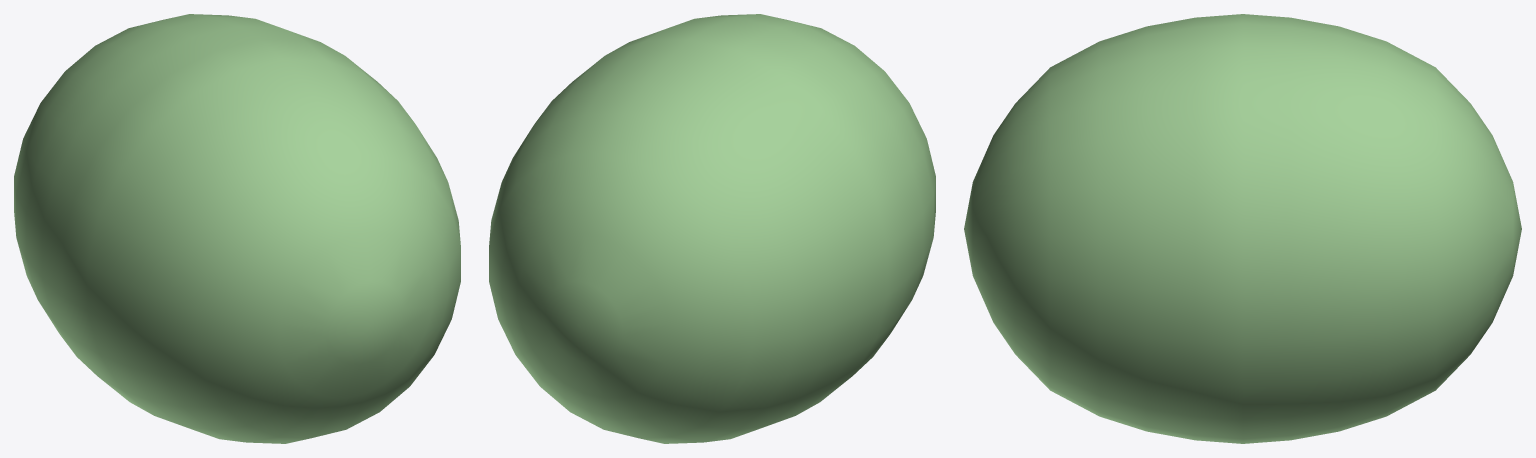
File: melon-frags.glb
3 renders of one model, left to right at view 1: azimuth 30°, elevation 25°; view 2: azimuth 150°, elevation 25°; view 3: azimuth 270°, elevation 25°, orthographic. The views are drawn at different scales.
Parts seen in each view (by area): view 1: frag_2, frag_4, frag_0, frag_3, frag_1, frag_5, frag_7; view 2: frag_4, frag_0, frag_7, frag_6, frag_9, frag_3, frag_2, frag_10, frag_11, frag_5, frag_1; view 3: frag_1, frag_0, frag_11, frag_2, frag_10, frag_9, frag_3.
Part boxes in pixels (<box>): frag_2: <box>103,81,449,438</box>; frag_4: <box>14,128,133,395</box>; frag_0: <box>96,14,382,86</box>; frag_3: <box>88,63,258,219</box>; frag_1: <box>276,68,460,349</box>; frag_5: <box>117,293,309,443</box>; frag_7: <box>28,50,104,215</box>; frag_4: <box>551,181,928,443</box>; frag_0: <box>491,20,762,224</box>; frag_7: <box>663,143,896,259</box>; frag_6: <box>549,198,741,387</box>; frag_9: <box>532,142,729,263</box>; frag_3: <box>758,30,898,181</box>; frag_2: <box>754,14,935,230</box>; frag_10: <box>511,223,598,400</box>; frag_11: <box>489,180,560,351</box>; frag_5: <box>556,211,934,408</box>; frag_1: <box>626,14,758,43</box>; frag_1: <box>1016,43,1303,428</box>; frag_0: <box>1154,16,1443,376</box>; frag_11: <box>1166,162,1497,433</box>; frag_2: <box>964,20,1179,419</box>; frag_10: <box>1104,162,1518,443</box>; frag_9: <box>1384,40,1503,170</box>; frag_3: <box>1111,14,1275,423</box>.
Bounding box in the file's own units: 0.323 × 0.323 × 0.4224.
